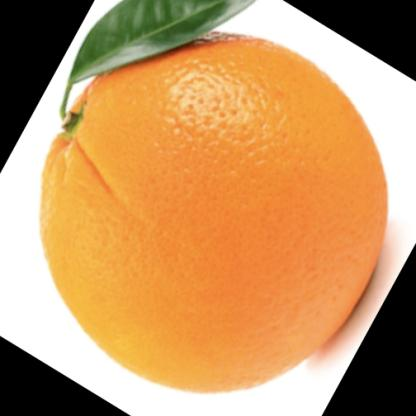fresh: (40, 35, 385, 392)
